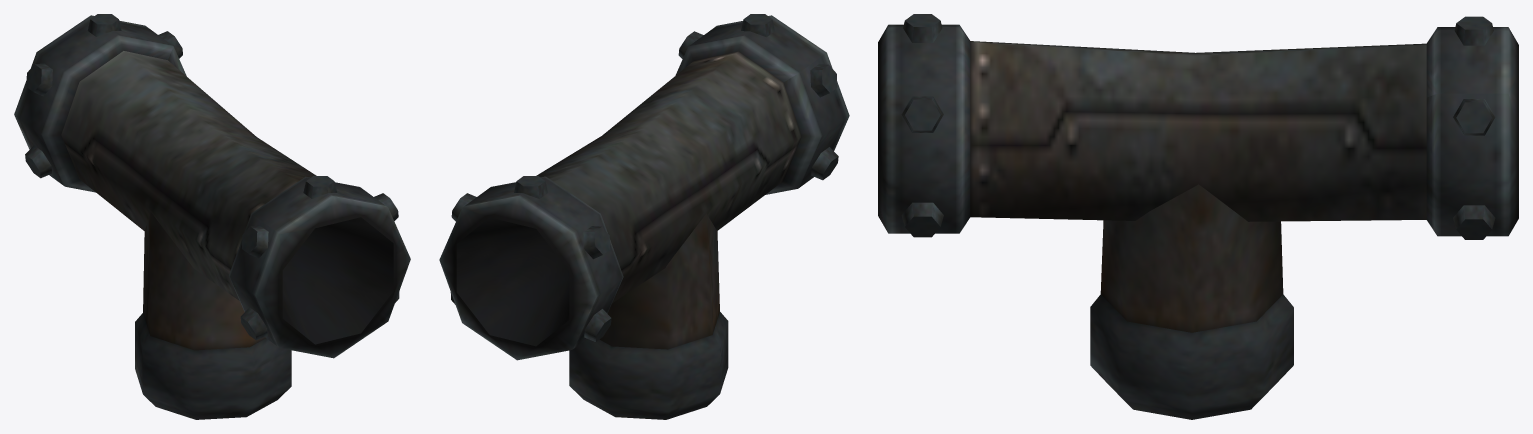
File: SM_EN_1002_guandao09.FBX
3 renders of one model, left to right at view 1: azimuth 30°, elevation 25°; view 2: azimuth 150°, elevation 25°; view 3: azimuth 270°, elevation 25°, orthographic. The views are drawn at different scales.
Parts seen in each view (by area): view 1: SM_EN_1002_guandao09; view 2: SM_EN_1002_guandao09; view 3: SM_EN_1002_guandao09.
Part boxes in pixels (bbox=[...]): SM_EN_1002_guandao09: bbox=[14, 14, 410, 419]; SM_EN_1002_guandao09: bbox=[439, 14, 849, 419]; SM_EN_1002_guandao09: bbox=[878, 14, 1518, 419].
Bounding box in the file's own units: 20.18 × 35.4 × 56.49.
